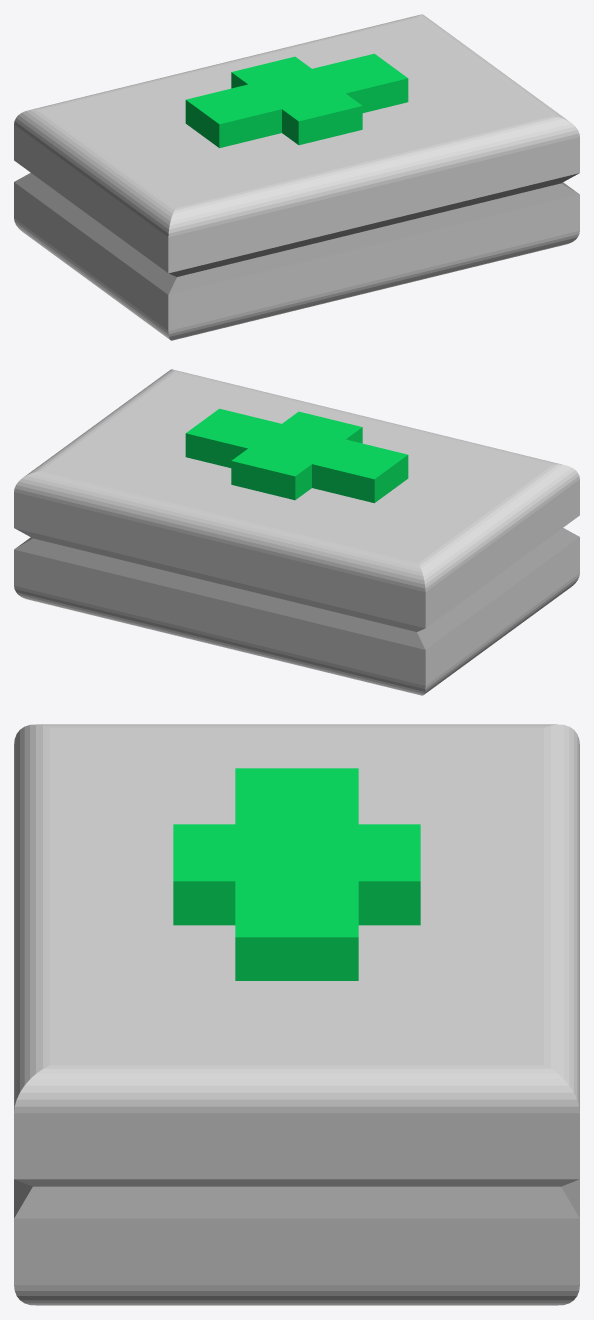
The model's file is First_Aid_Kit.fbx.
The picture shows the model from 3 angles, top to bottom: view 1: azimuth 30°, elevation 25°; view 2: azimuth 150°, elevation 25°; view 3: azimuth 270°, elevation 25°; orthographic projection. The views are drawn at different scales.
Parts seen in each view (by area): view 1: Cube; view 2: Cube; view 3: Cube.
Part boxes in pixels (x1,y1,x2,y2): Cube: [14, 14, 579, 340]; Cube: [14, 369, 579, 695]; Cube: [14, 724, 579, 1305].
Size of the model in its own units: 400 by 142 by 260.
